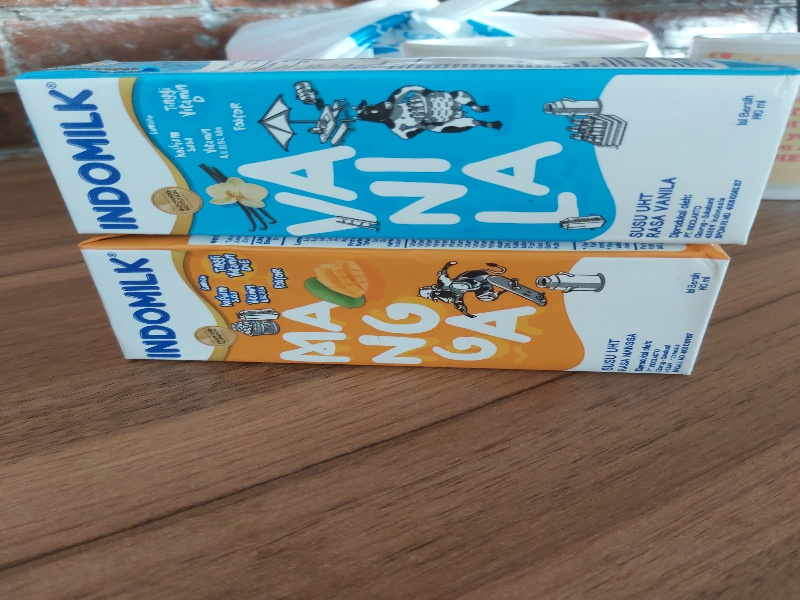mangga: (77, 236, 730, 376)
vanilla: (14, 56, 800, 242)
